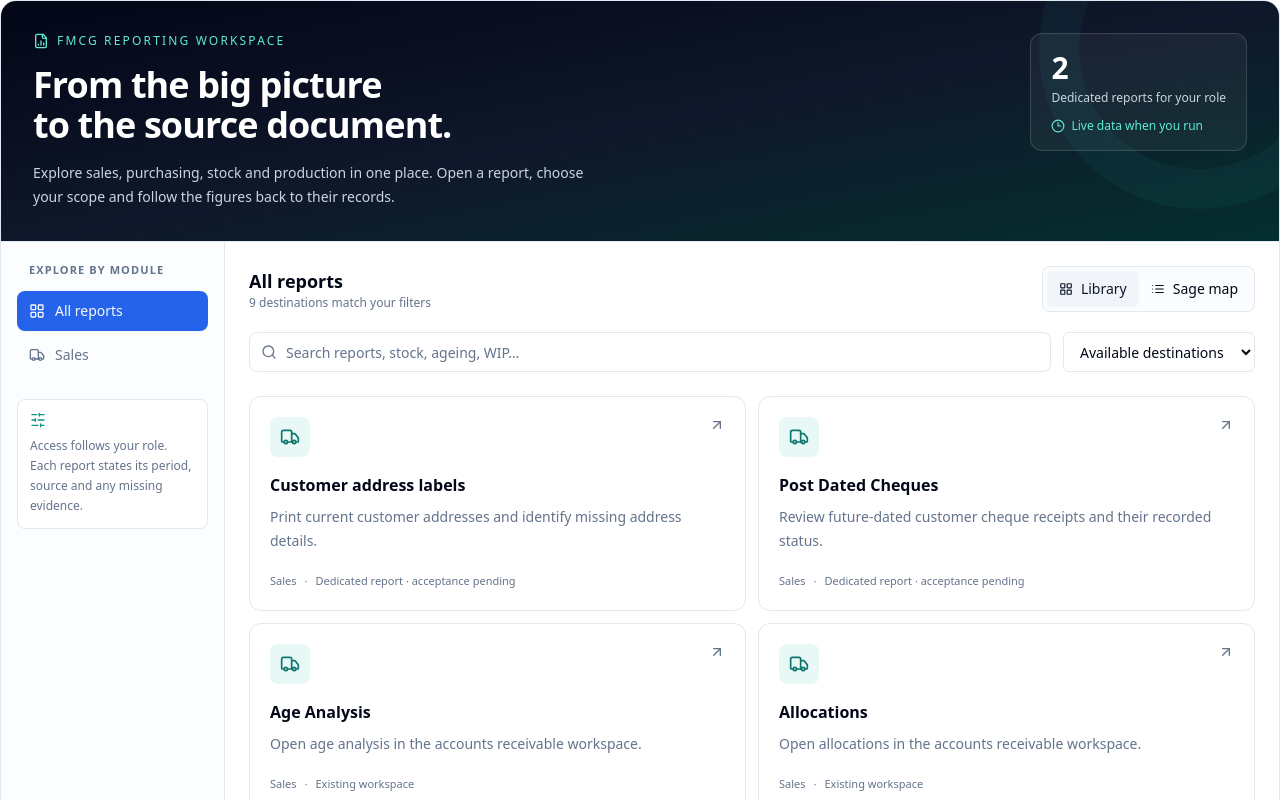
it: FMCG reporting workspace › keeps unapproved commission rules non-runnable
Select "Needs setup / to build" in the dropdown named "Report availability" at (1159, 352), box [1063, 332, 1255, 372]
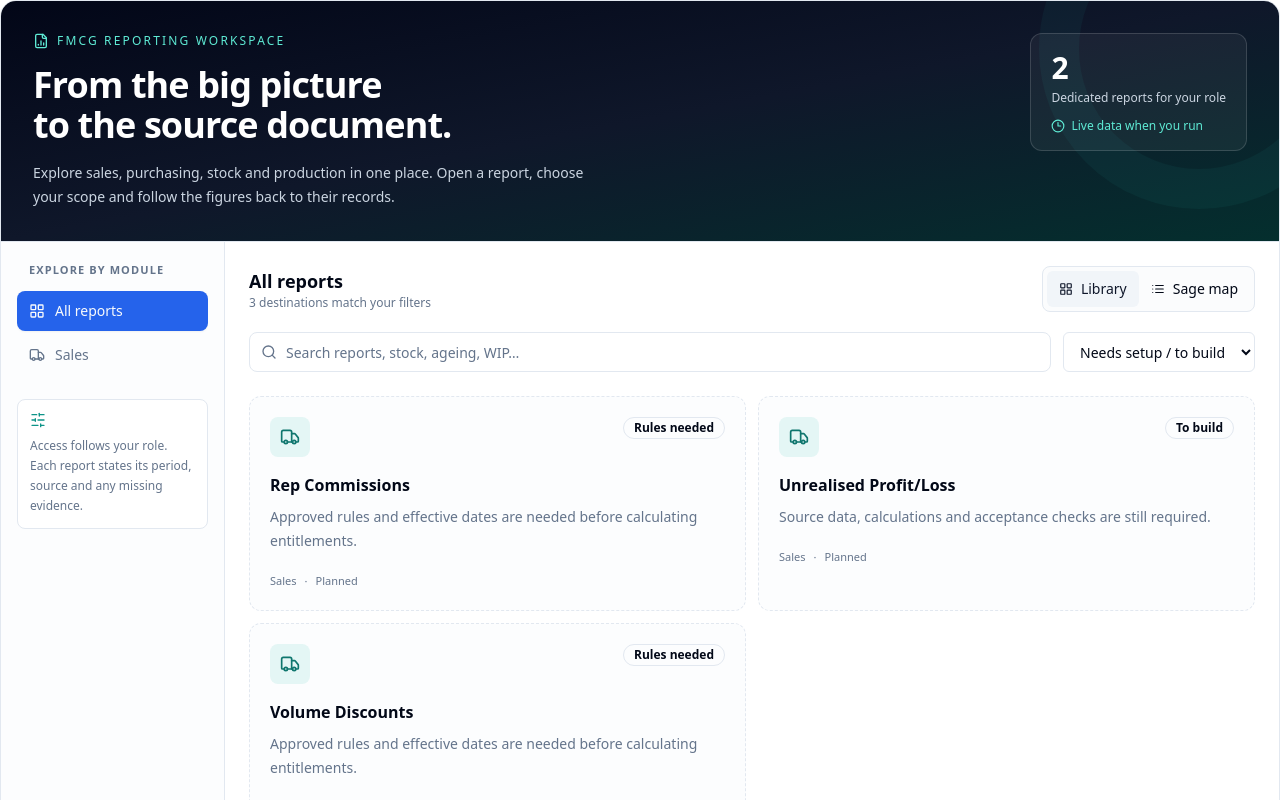
Check: the heading "Rep Commissions" is shown, box [270, 474, 410, 496]
Check: the 1st text "Rules needed" is shown, box [623, 417, 725, 439]
